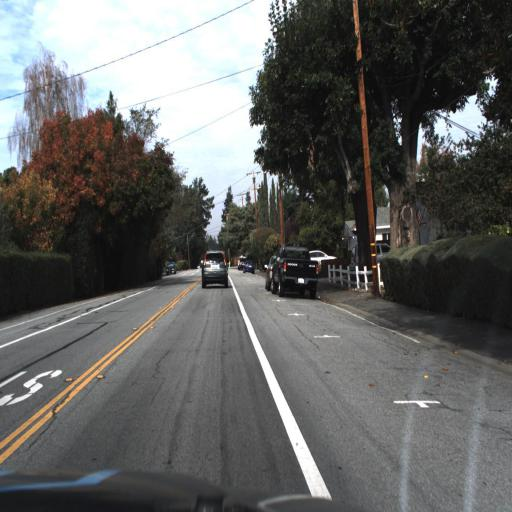car: (272, 242, 321, 304), (196, 244, 237, 300), (345, 226, 396, 271), (305, 244, 341, 266), (261, 252, 277, 298), (162, 258, 178, 280)
